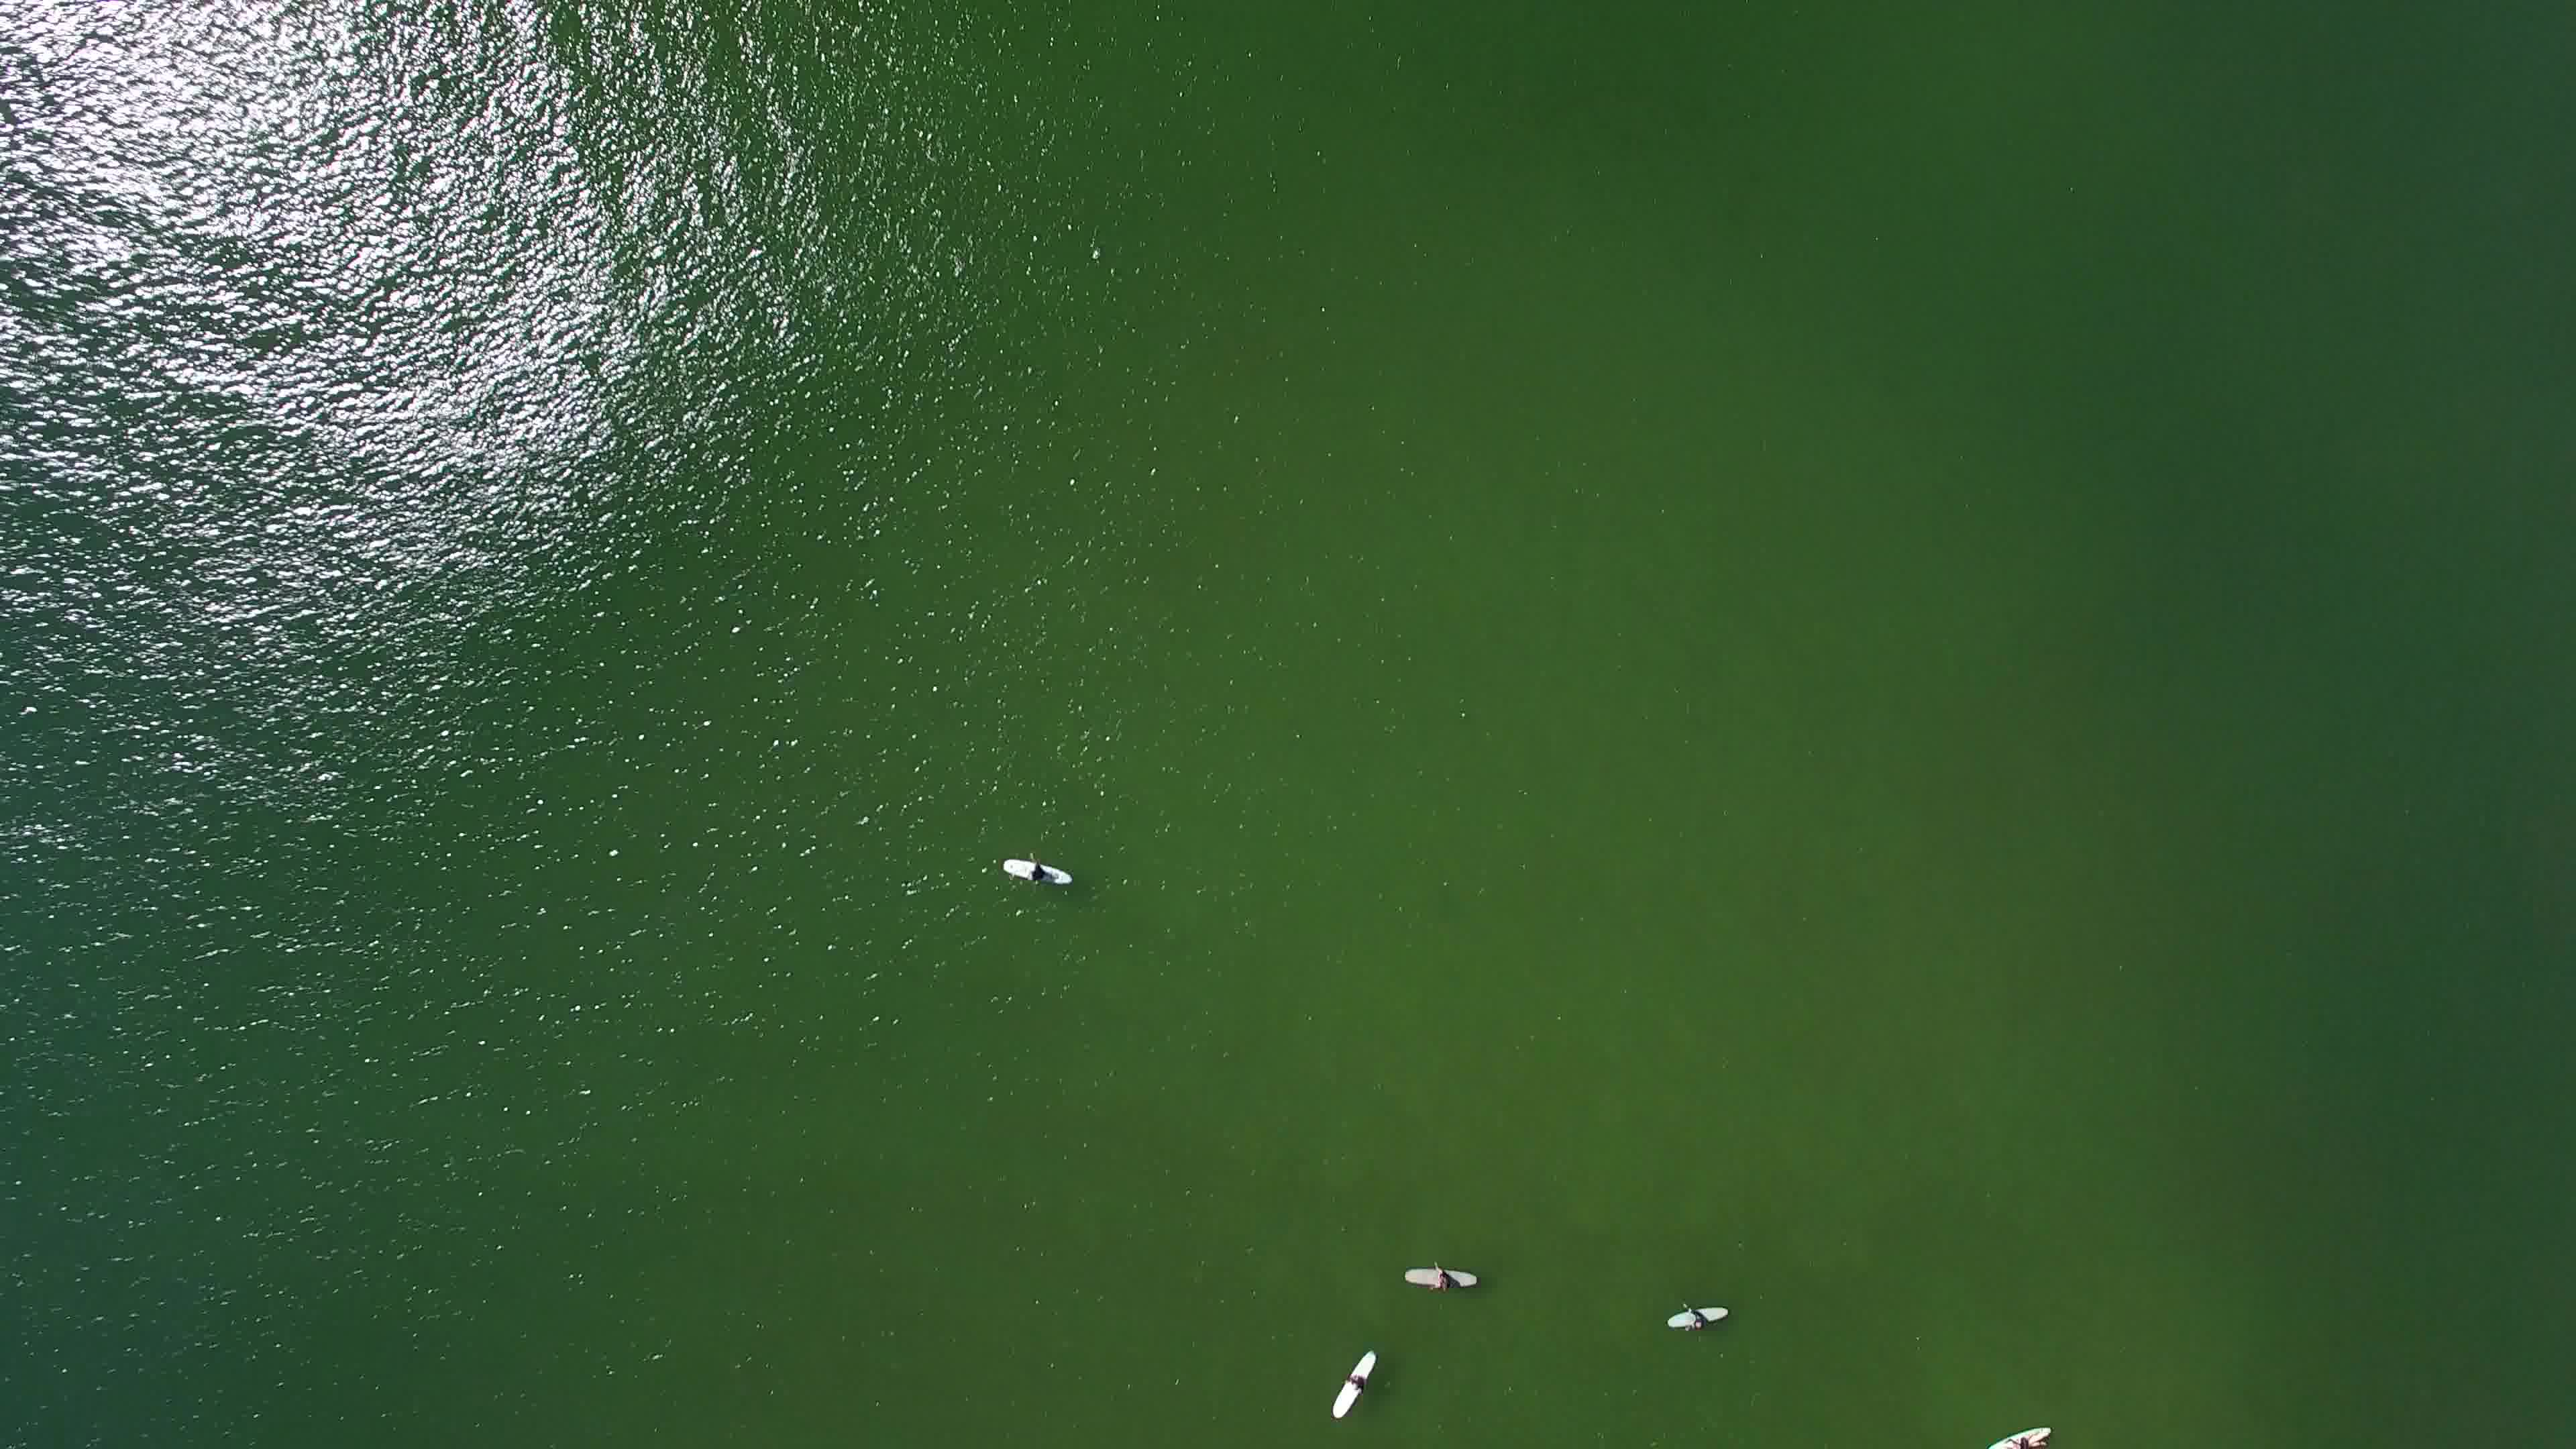surfer: (1391, 1240, 1488, 1307), (1330, 1343, 1385, 1426), (991, 844, 1077, 895), (1667, 1293, 1734, 1338), (1976, 1422, 2049, 1449)
